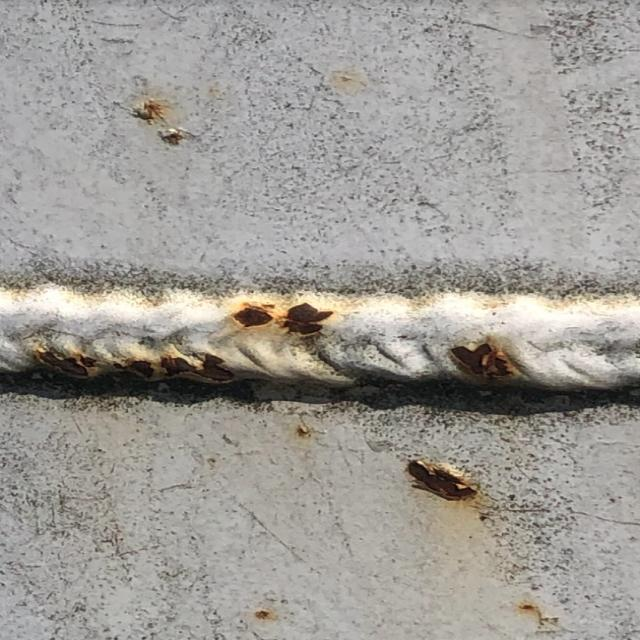Corrosion: (29, 335, 245, 387), (221, 295, 343, 343), (432, 335, 530, 391), (403, 455, 486, 505), (130, 100, 187, 146), (294, 423, 318, 440), (253, 608, 278, 622), (517, 601, 540, 614)
